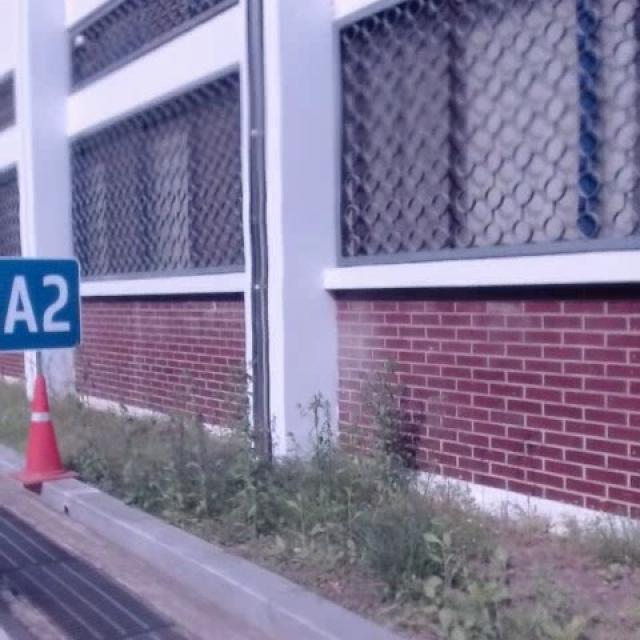a2: (0, 254, 86, 356)
